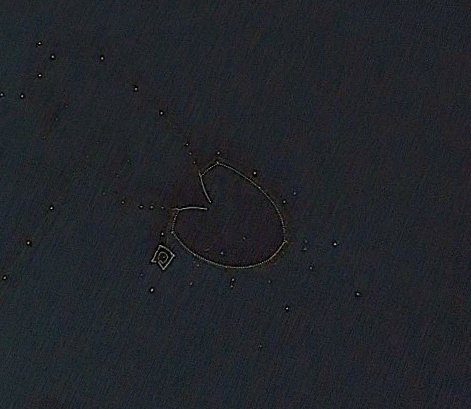square: (149, 242, 180, 273)
